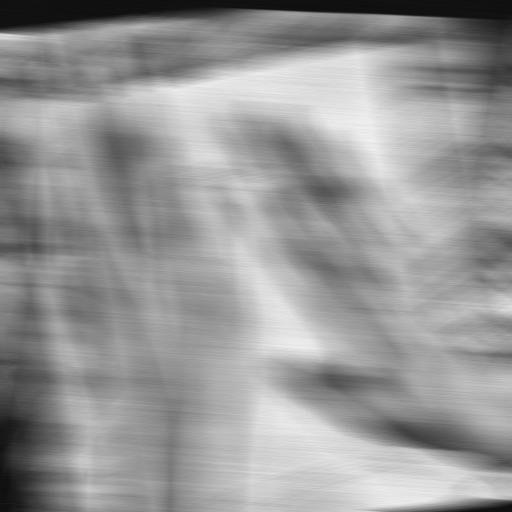bottom_left: (473, 487, 501, 500)
envelop: (81, 130, 431, 512)
top_left: (379, 33, 408, 46)
top_right: (19, 97, 49, 112)
